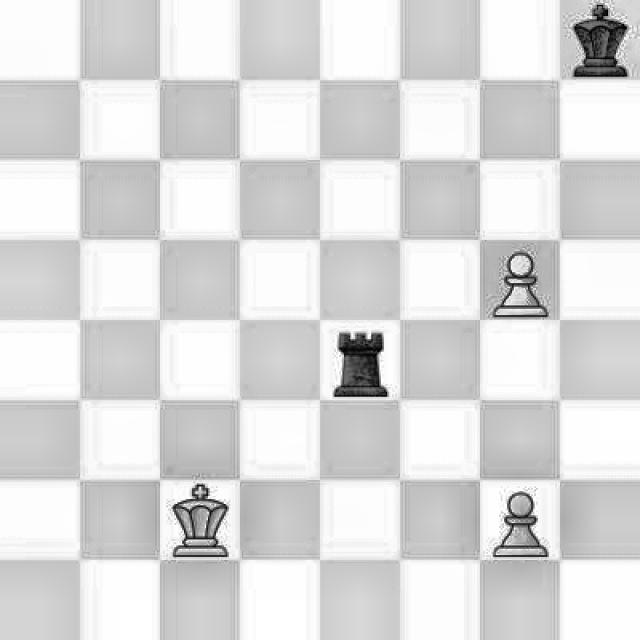black king: (564, 0, 634, 77)
black rook: (323, 325, 393, 398)
white king: (165, 484, 236, 560)
white pawn: (480, 246, 556, 318), (484, 486, 550, 556)
